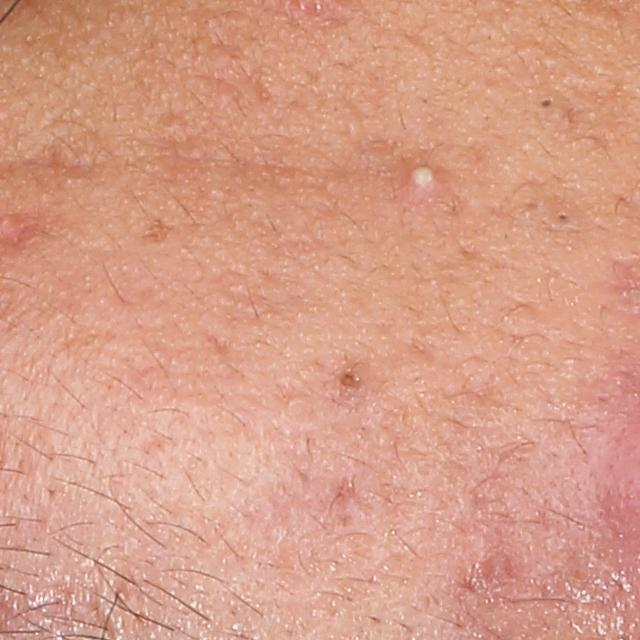comedo: (336, 367, 365, 393), (550, 209, 573, 226)
pustule: (405, 157, 442, 191)
